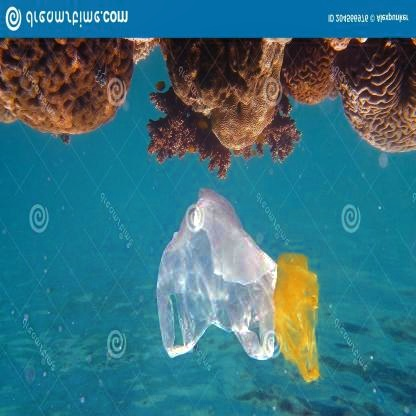pbag: (155, 187, 278, 362), (269, 253, 323, 383)
